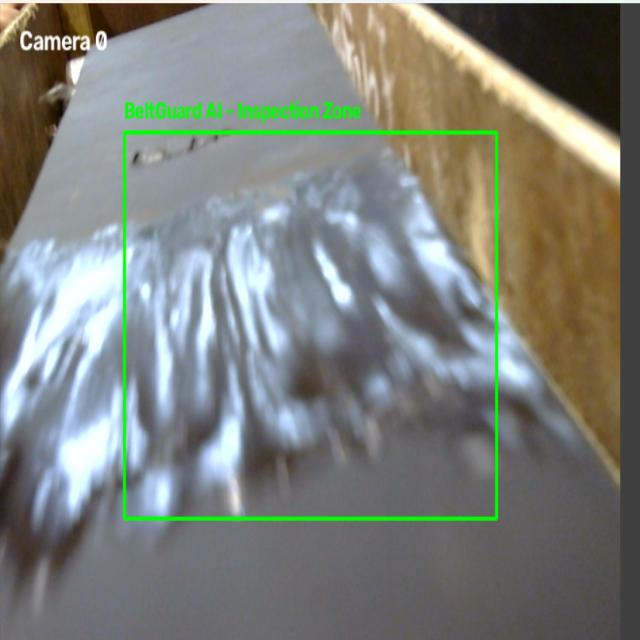Joint_Damage: (2, 236, 494, 546)
crack: (130, 131, 231, 167)
